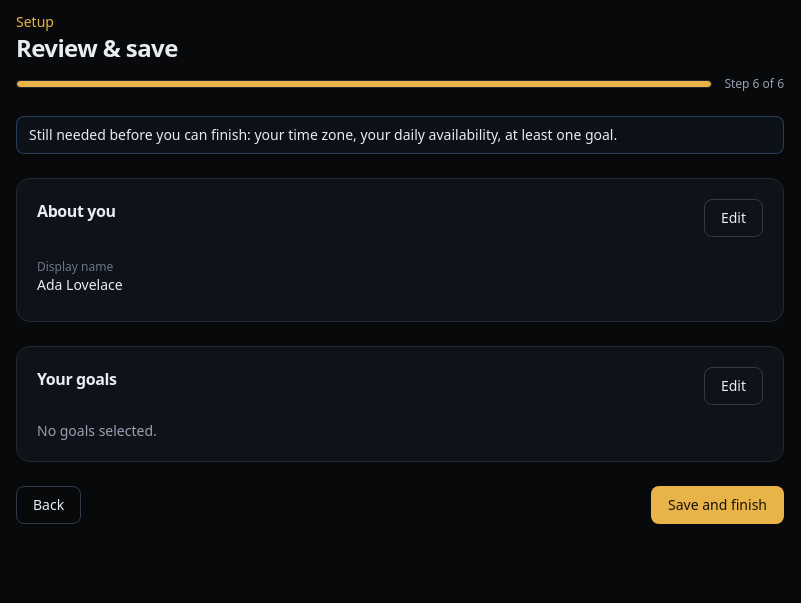
it: OnboardingPage › shows the server completion gate instead of faking success
Step 1. Click the button "Save and finish" → coordinates (718, 505), box [651,486,784,524]
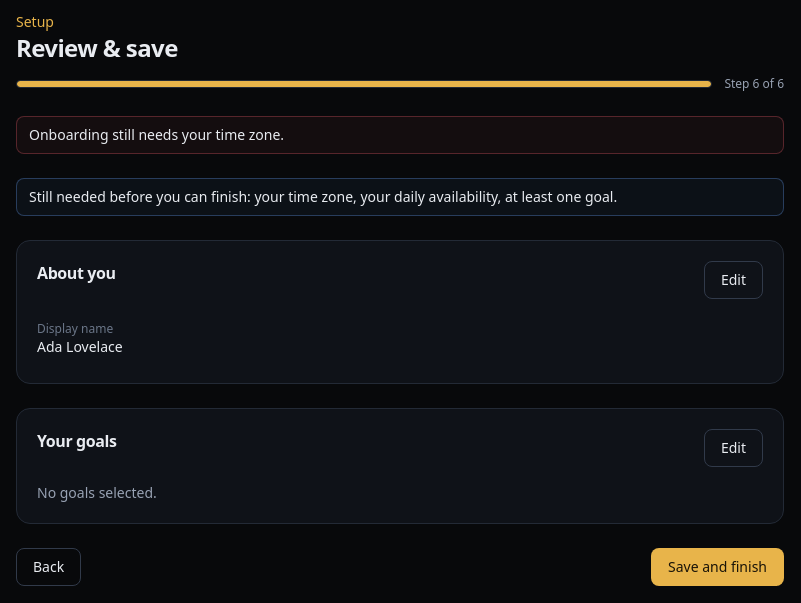
Expected: the button "Save and finish" is shown, [651,548,784,586]
Expected: the text "Onboarding still needs your time zone." is shown, [16,116,784,154]
